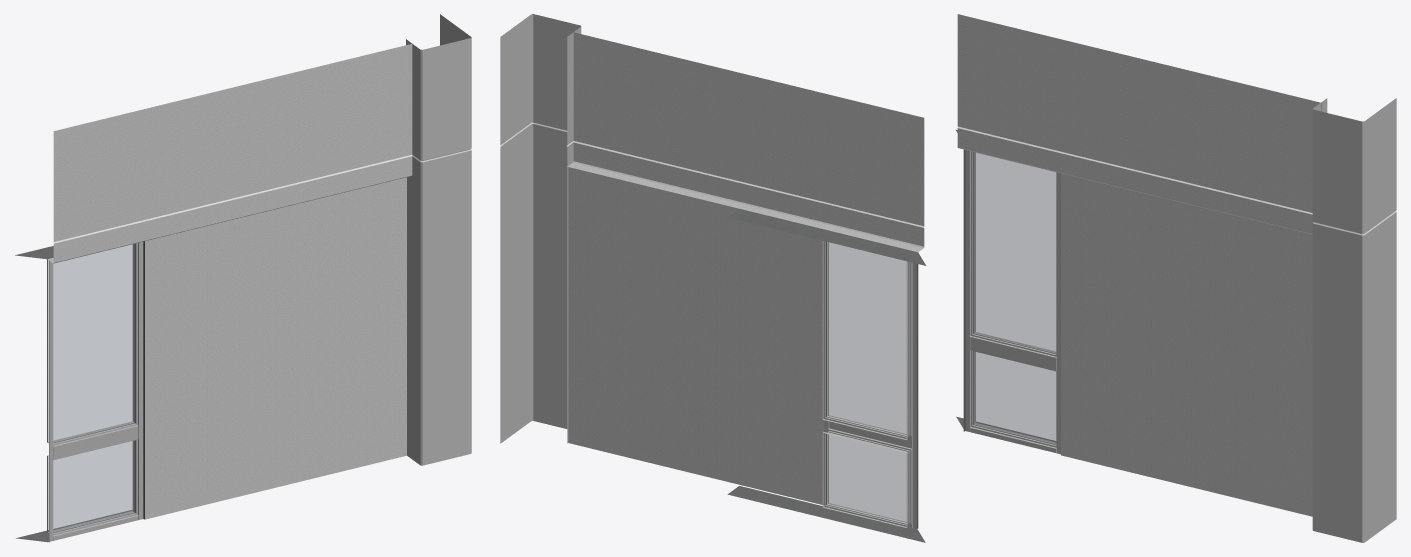
Rendered from Office_Windows_B.fbx.
3 renders of one model, left to right at view 1: azimuth 30°, elevation 25°; view 2: azimuth 150°, elevation 25°; view 3: azimuth 330°, elevation 25°, orthographic. The views are drawn at different scales.
Visible parts, largest first — view 1: Office_Windows_B, Office_Windows_BGlass; view 2: Office_Windows_B, Office_Windows_BGlass; view 3: Office_Windows_B, Office_Windows_BGlass.
Boxes of the visible parts, bbox=[...] form: Office_Windows_B: bbox=[15, 14, 471, 542]; Office_Windows_BGlass: bbox=[53, 244, 134, 531]; Office_Windows_B: bbox=[500, 14, 926, 542]; Office_Windows_BGlass: bbox=[828, 242, 906, 522]; Office_Windows_B: bbox=[956, 14, 1396, 542]; Office_Windows_BGlass: bbox=[974, 152, 1055, 444].
Bounding box in the file's own units: 421 × 389 × 54.88.
